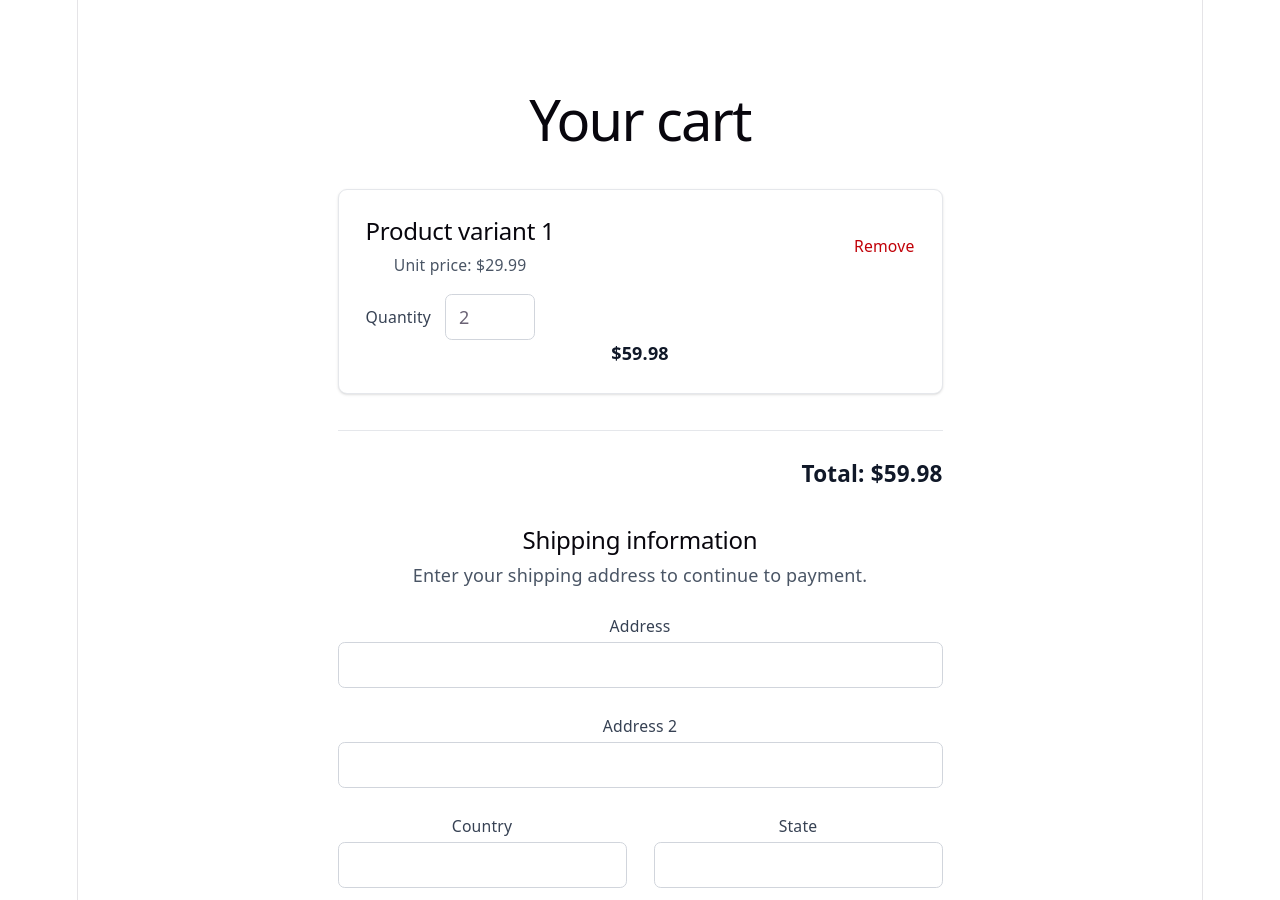
Test case: CartPage › updates a cart item
Replace the text in the number field labelled "Quantity" with "3". click: (490, 317)
box: [444,294,534,340]
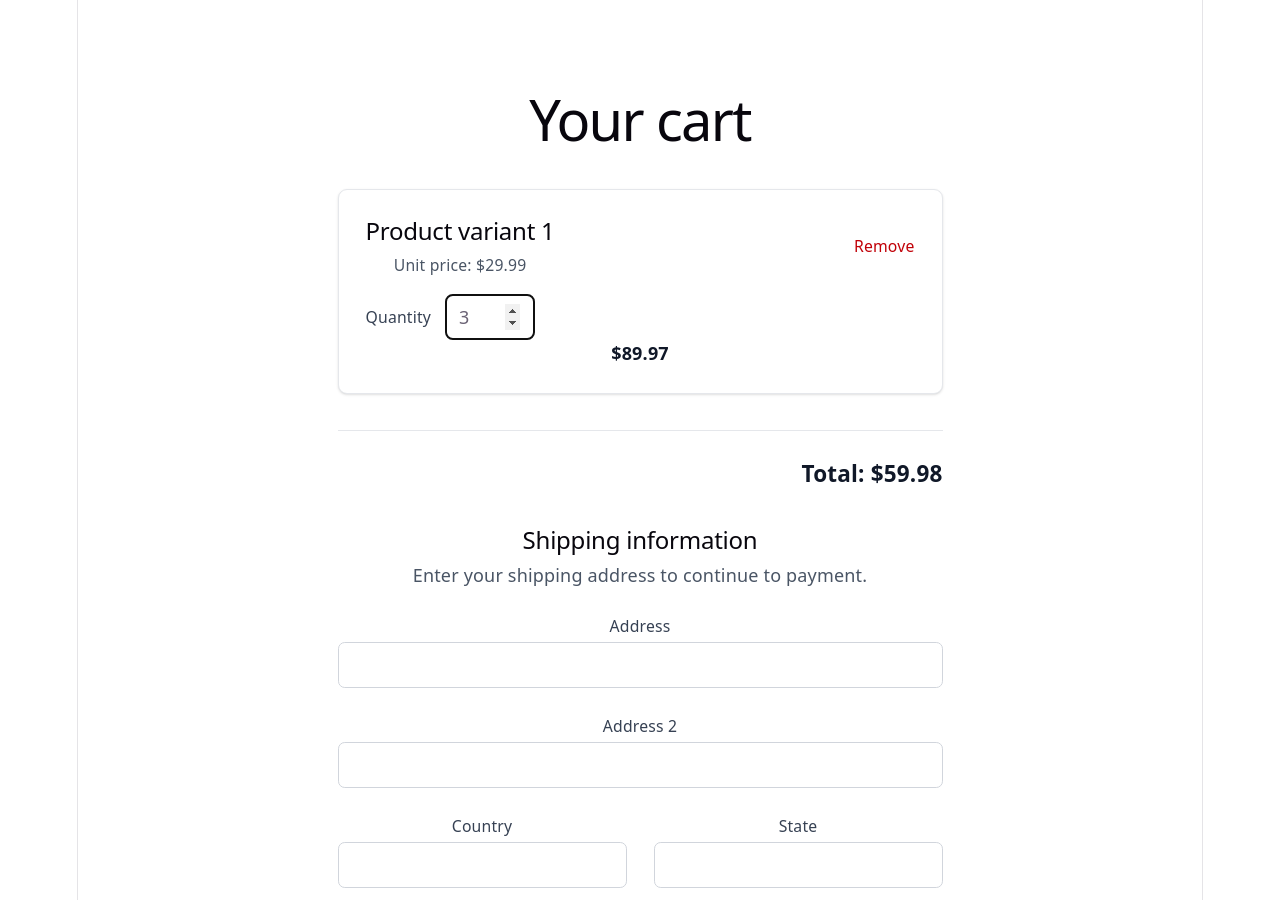
Press Enter
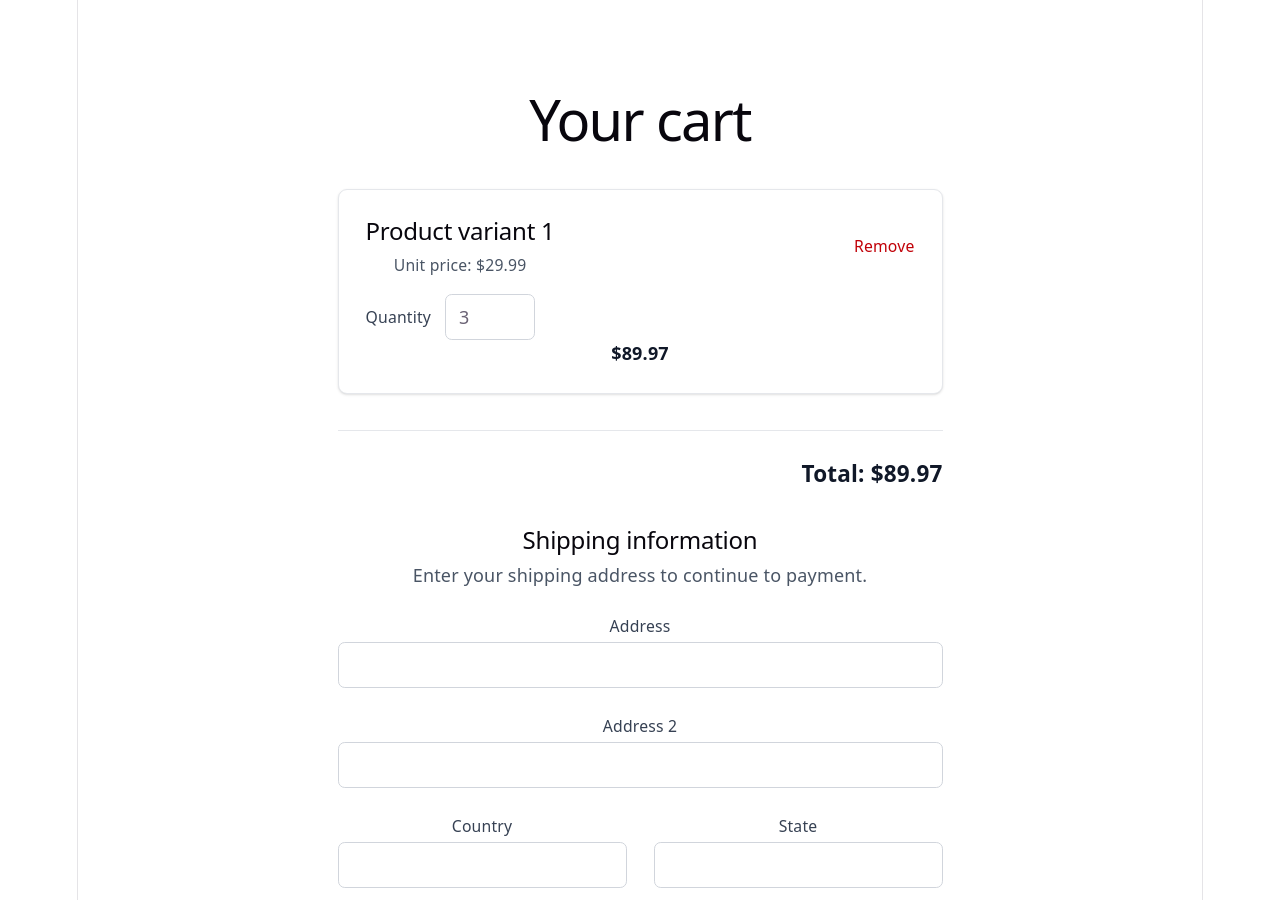
Expected: the text "Total: $89.97" is shown, [802,458,942,489]
